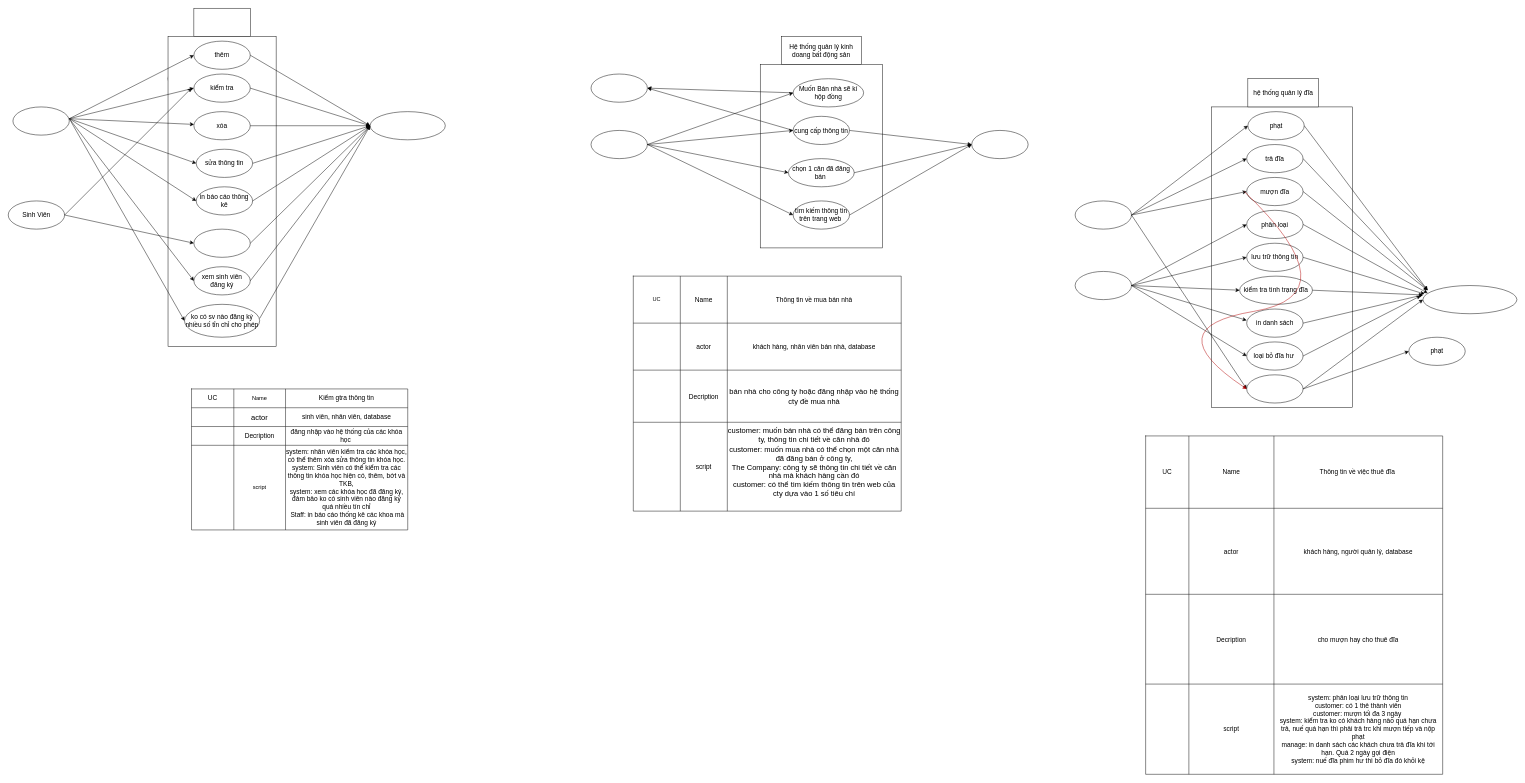
Image size: 1525x783. Some labels were removed from this diagram. The shapes that lost their labels are listed below. From the top down, each one's box as (x1, y1, x2, y2) in pixels, then its label:
(193, 8, 250, 36): Phần mềm quản lý đăng ký học online
(591, 74, 647, 102): công ty
(12, 106, 69, 135): nhân viên
(370, 111, 445, 140): Database (hệ thống quản lý quản lý dữ liệu)
(591, 130, 647, 159): khách hàng
(971, 130, 1028, 159): hệ thống quản lý dữ liệu
(1075, 200, 1132, 229): customer
(193, 229, 250, 257): thêm bớt khóa học bào TKB
(1075, 271, 1132, 300): quản lý
(1422, 285, 1517, 314): database (hệ thống cơ sở dữ liệu)
(1246, 374, 1303, 403): hư phải nộp phạt
